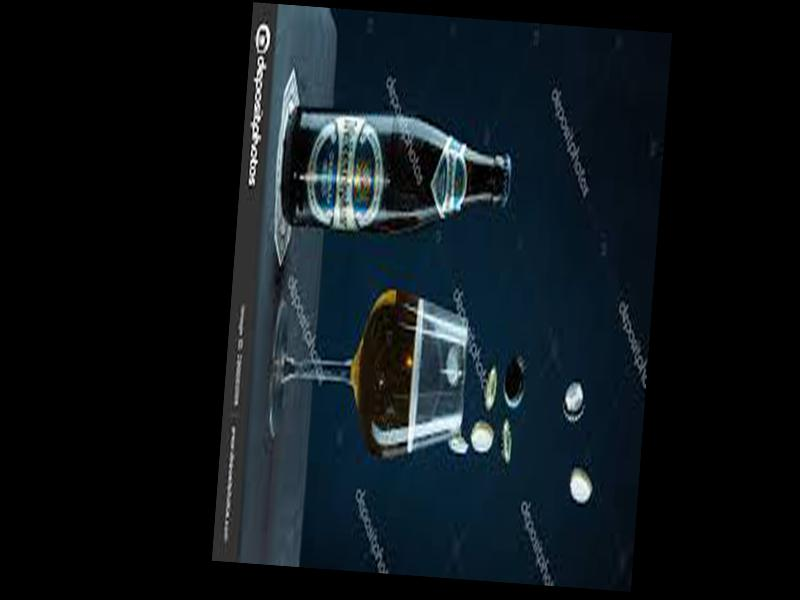Beer: (281, 109, 512, 238)
